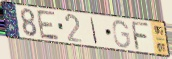2: (64, 13, 85, 45)
8: (19, 8, 38, 39)
E: (35, 9, 61, 42)
F: (131, 21, 151, 52)
G: (111, 19, 132, 50)
I: (89, 16, 99, 46)
